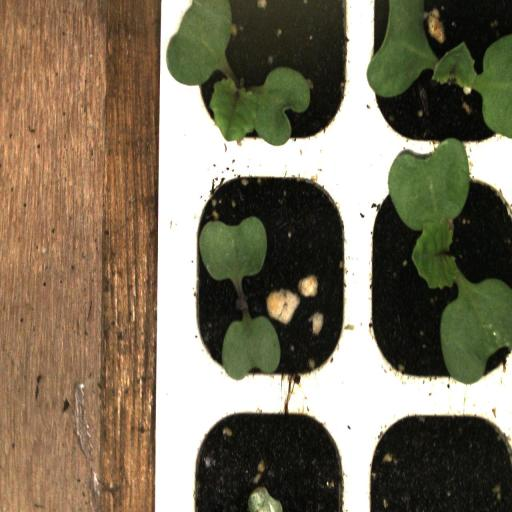Folha: (199, 216, 267, 281), (221, 315, 281, 380)
Germinacao: (182, 161, 359, 390), (358, 157, 512, 392), (175, 2, 359, 158), (359, 0, 512, 161)
